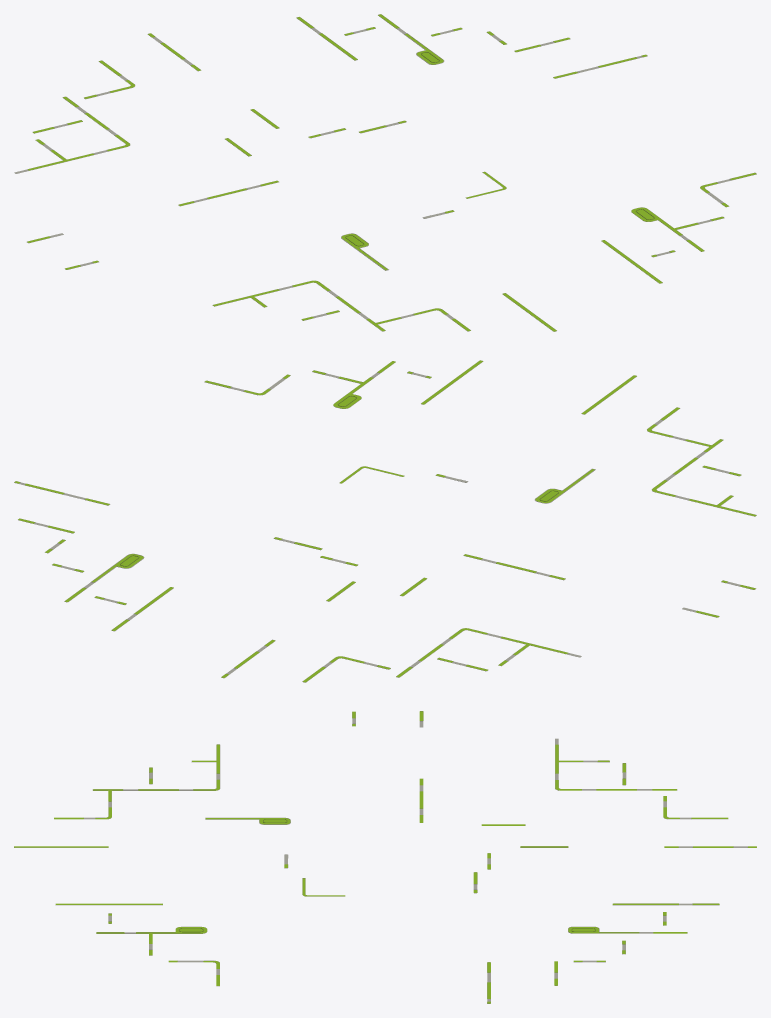
Rendered from D1_TERRAIN_GRASS_SIDEWALKS.fbx.
3 views of the same model, one above another, from view 1: azimuth 30°, elevation 25°; view 2: azimuth 150°, elevation 25°; view 3: azimuth 270°, elevation 25° (orthographic). The views are drawn at different scales.
Bounding box in the file's own units: 219066 × 132 × 235069.
